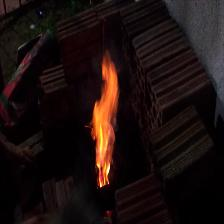fire: (94, 56, 122, 185)
